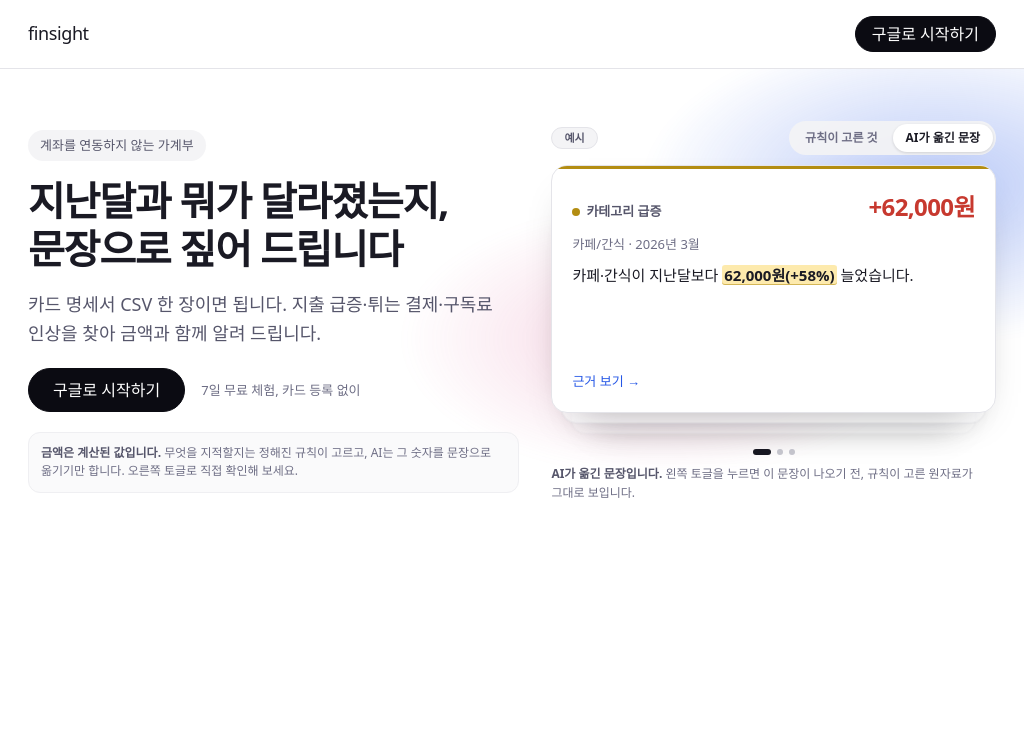
Test: marketing page › surfaces a readable error when OAuth cannot start
Click the 1st button "구글로 시작하기".
click(925, 34)  # box [855,16,996,52]
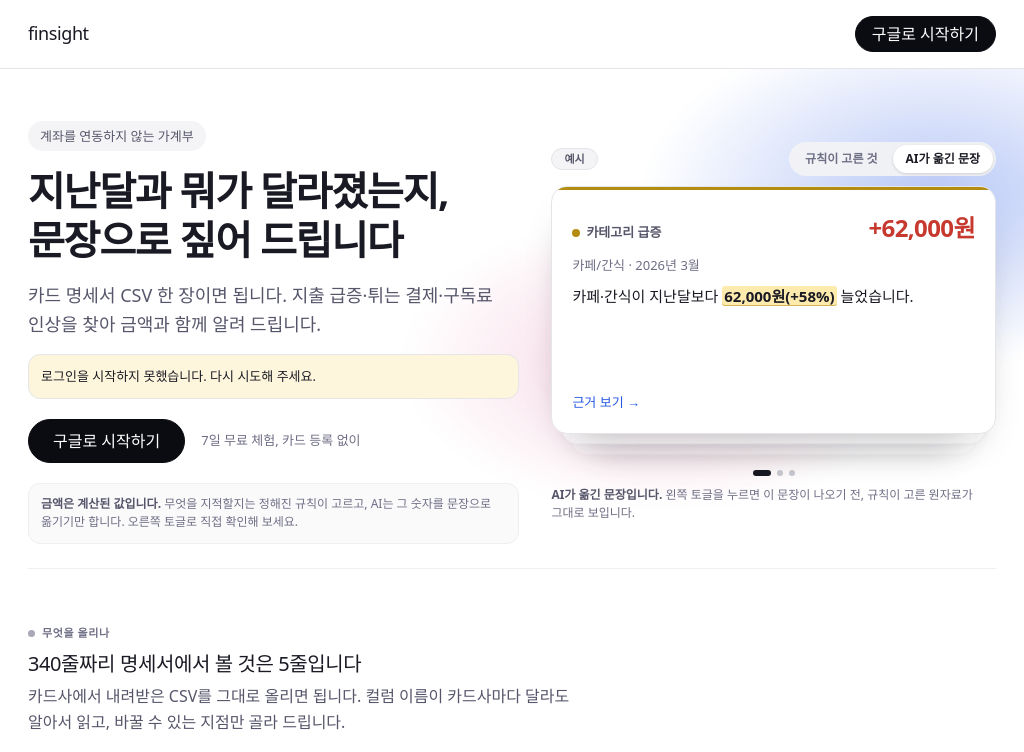
Now the text "로그인을 시작하지 못했습니다. 다시 시도해 주세요." is shown, box [28,354,519,399]
